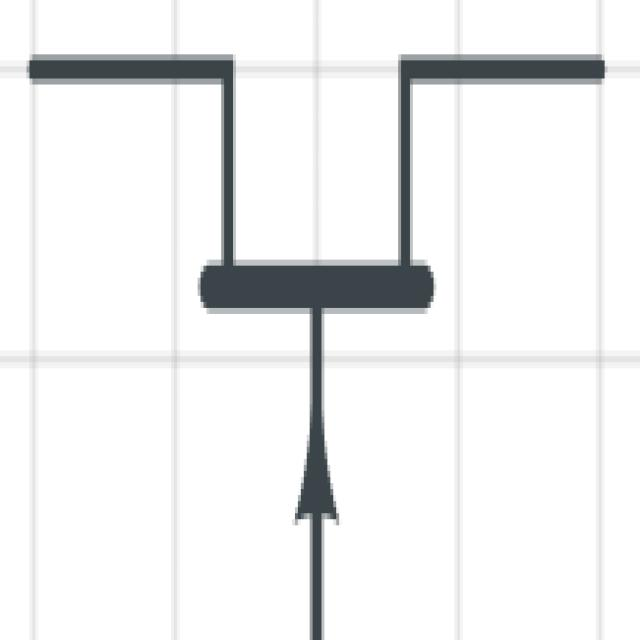nmos: (20, 10, 637, 640)
